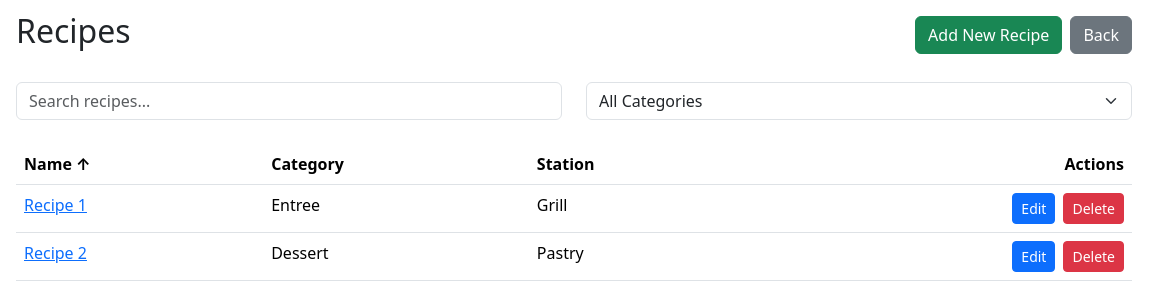
RecipesTable › filters recipes by search term
expect the link "Recipe 1" is shown: met, box 24,194 -> 87,216
Type "Recipe 1" into the field with placeholder "Search recipes..." at {"x": 289, "y": 101}, box 16,82 -> 562,120
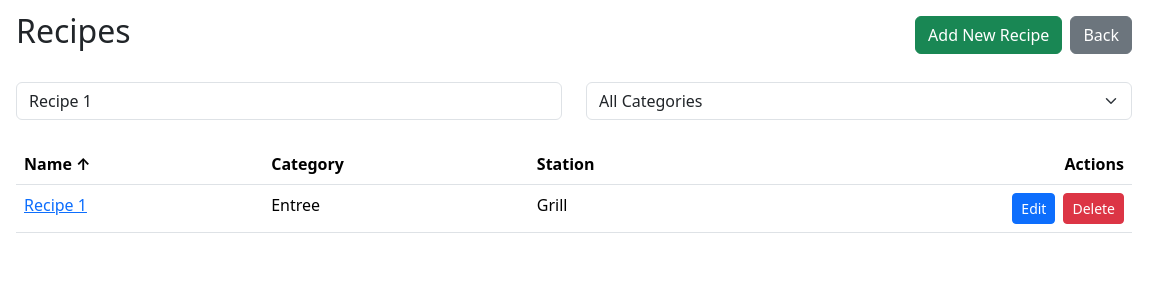
expect the link "Recipe 1" is shown: met, box 24,194 -> 87,216
expect the link "Recipe 2" is gone: met
